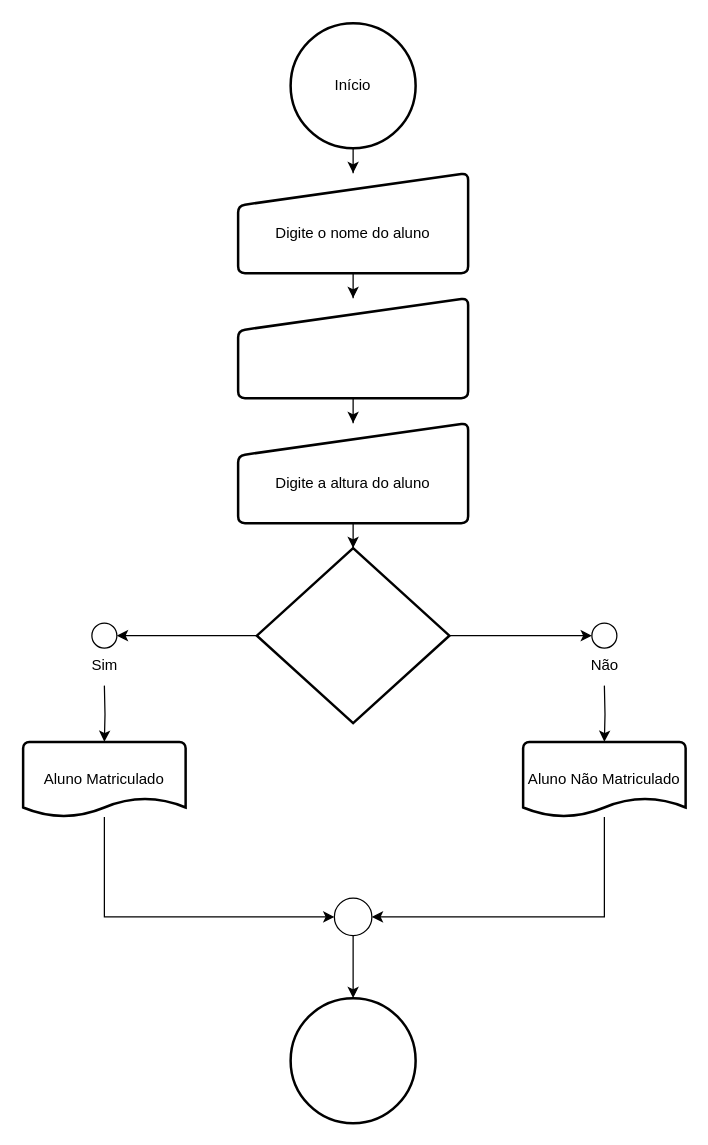
Image size: 708x1145. Some labels were removed from this diagram. Here are the shapes that lost their labels. From the top down, the centre of each, then its label:
the point at 352,347: Digite a idade do aluno
the point at 352,635: Nome preenchido / Idade do aluno entre 16 e 60 / Altura entre 1.0 e 2.5
the point at 352,1060: Fim
